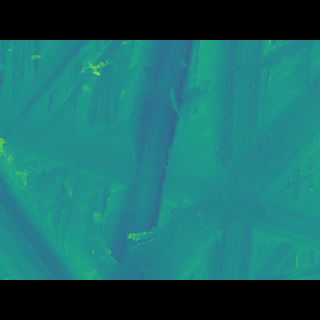Loch: (96, 93, 319, 250), (114, 67, 202, 222)
